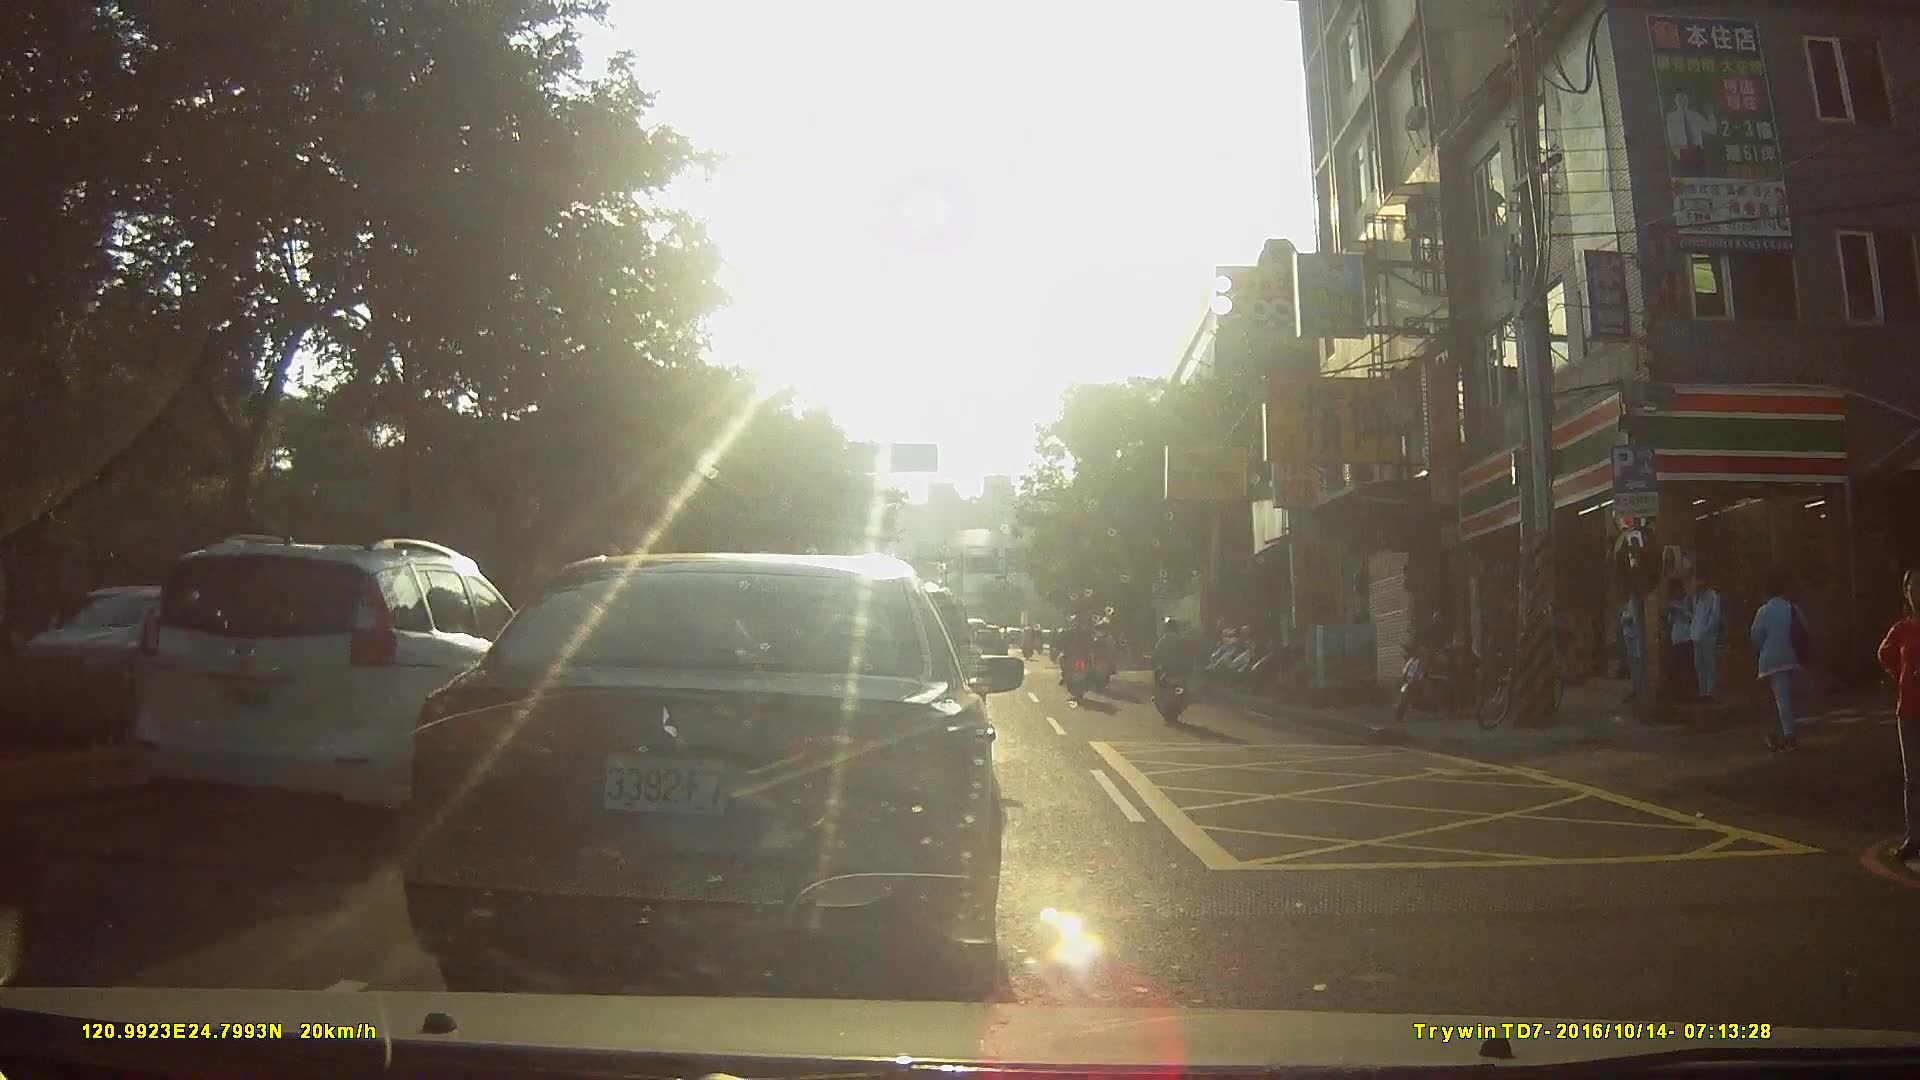pedestrian: (1876, 567, 1920, 854), (1753, 572, 1818, 756), (1680, 569, 1723, 703), (1614, 573, 1655, 708), (1661, 567, 1698, 710)
rider: (1149, 617, 1202, 725), (1056, 612, 1103, 704), (1020, 626, 1040, 660)
vehicle: (391, 547, 1034, 982), (106, 511, 530, 869), (18, 581, 266, 730)
